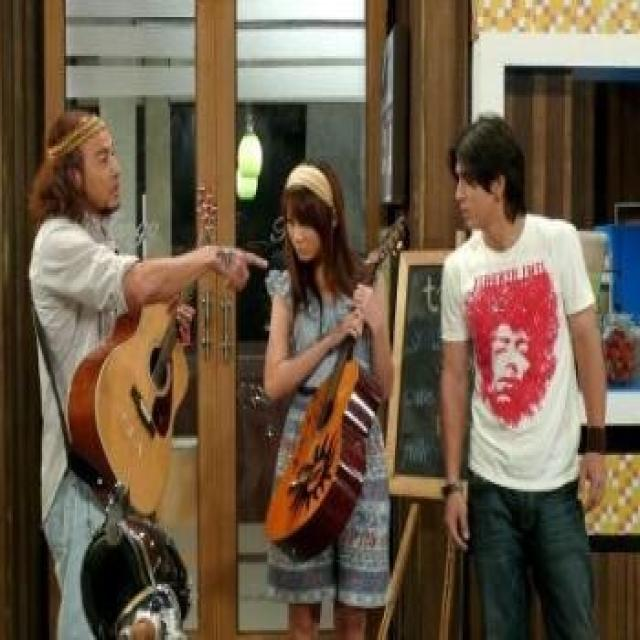guitar: (68, 174, 222, 524), (262, 210, 409, 561)
